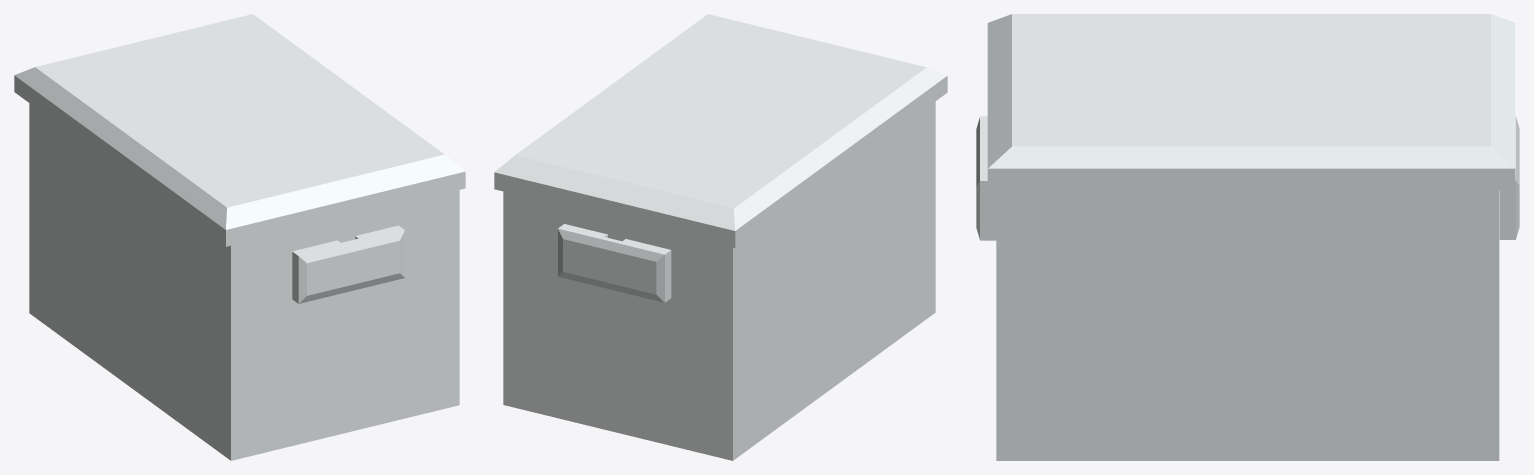
The model's file is Nevera de Icopor .fbx.
3 views of the same model, side by side, from view 1: azimuth 30°, elevation 25°; view 2: azimuth 150°, elevation 25°; view 3: azimuth 270°, elevation 25° (orthographic). The views are drawn at different scales.
Parts seen in each view (by area): view 1: Cubo.005; view 2: Cubo.005; view 3: Cubo.005.
Part boxes in pixels (left/top/right/bottom): Cubo.005: left=14, top=14, right=465, bottom=460; Cubo.005: left=494, top=14, right=947, bottom=460; Cubo.005: left=976, top=14, right=1519, bottom=460.
Size of the model in its own units: 37.76 by 37.34 by 59.47.
Materials: 1 (1 with a texture image).
